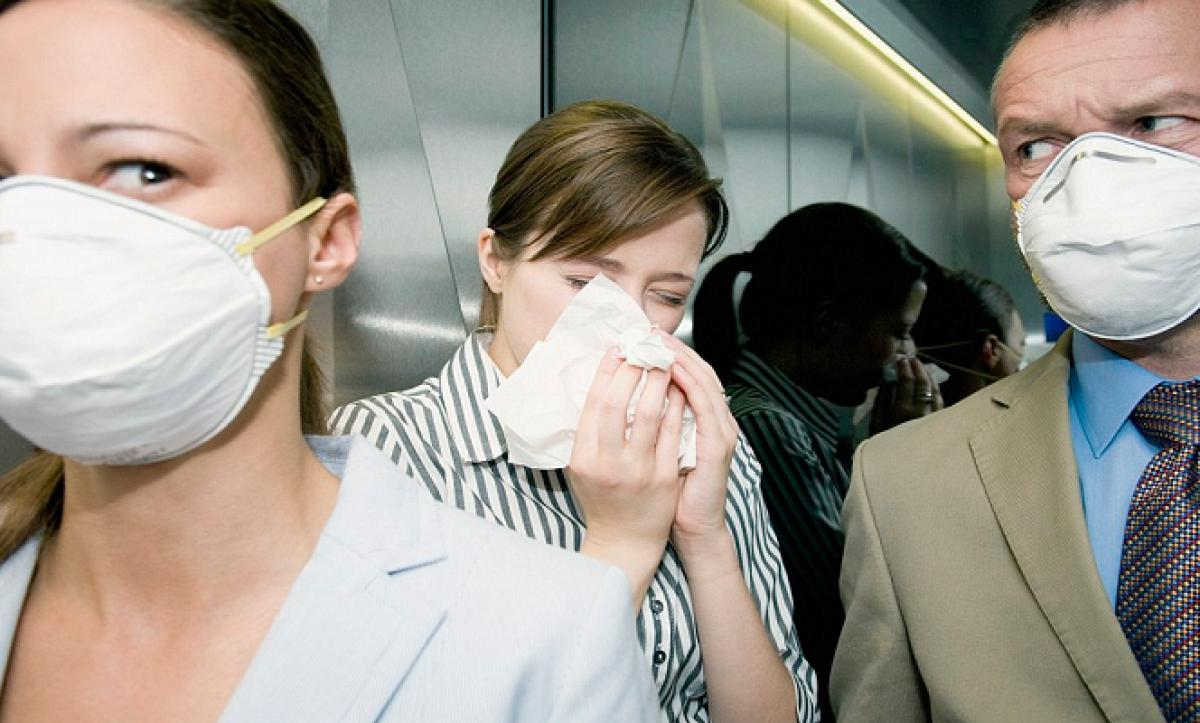mask: (1, 29, 288, 457), (1003, 29, 1200, 342)
none: (486, 191, 701, 421), (817, 229, 928, 403)
